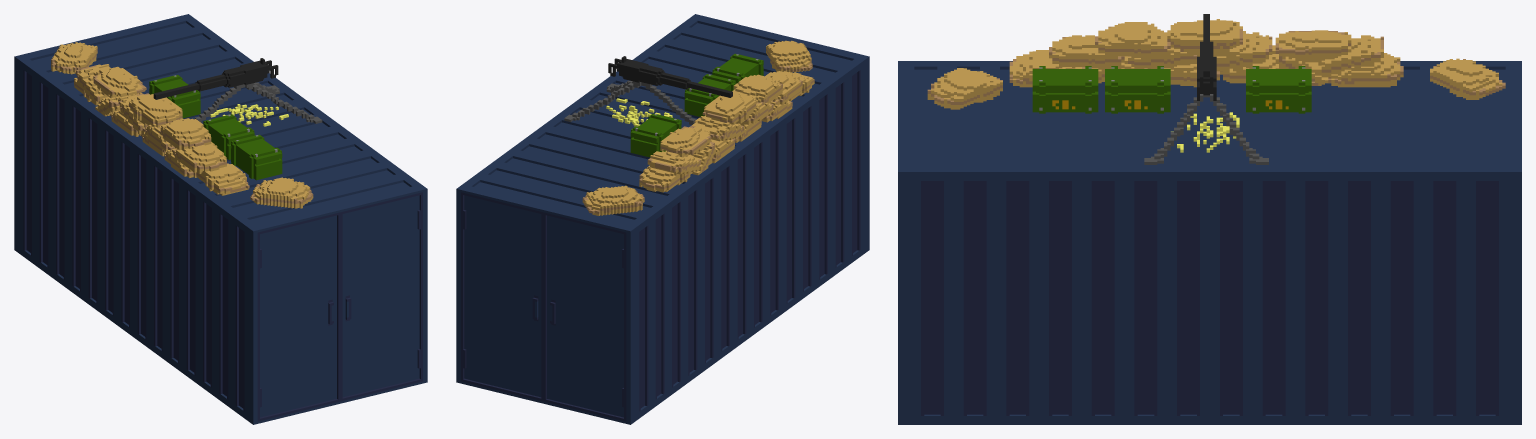
The model's file is mitrailleuse_v2.vox.obj.
3 renders of one model, left to right at view 1: azimuth 30°, elevation 25°; view 2: azimuth 150°, elevation 25°; view 3: azimuth 270°, elevation 25°, orthographic. The views are drawn at different scales.
Size of the model in its own units: 8 by 10.9 by 19.
Materials: 1 (1 with a texture image).
